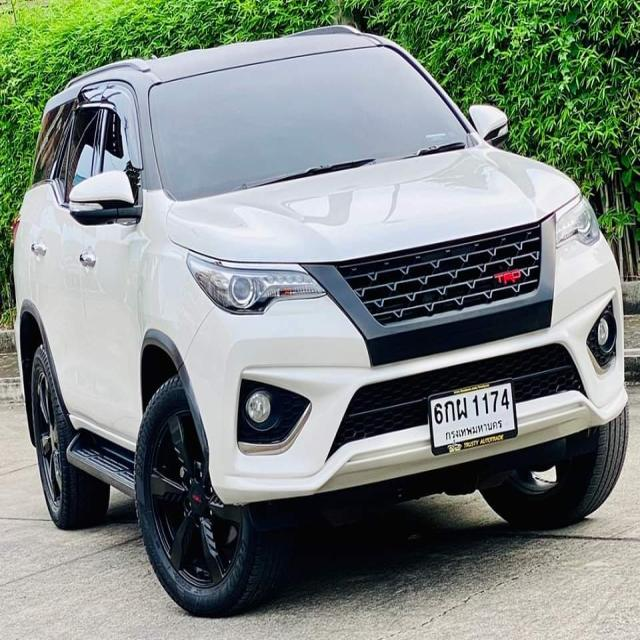license_plate: (425, 378, 518, 460)
